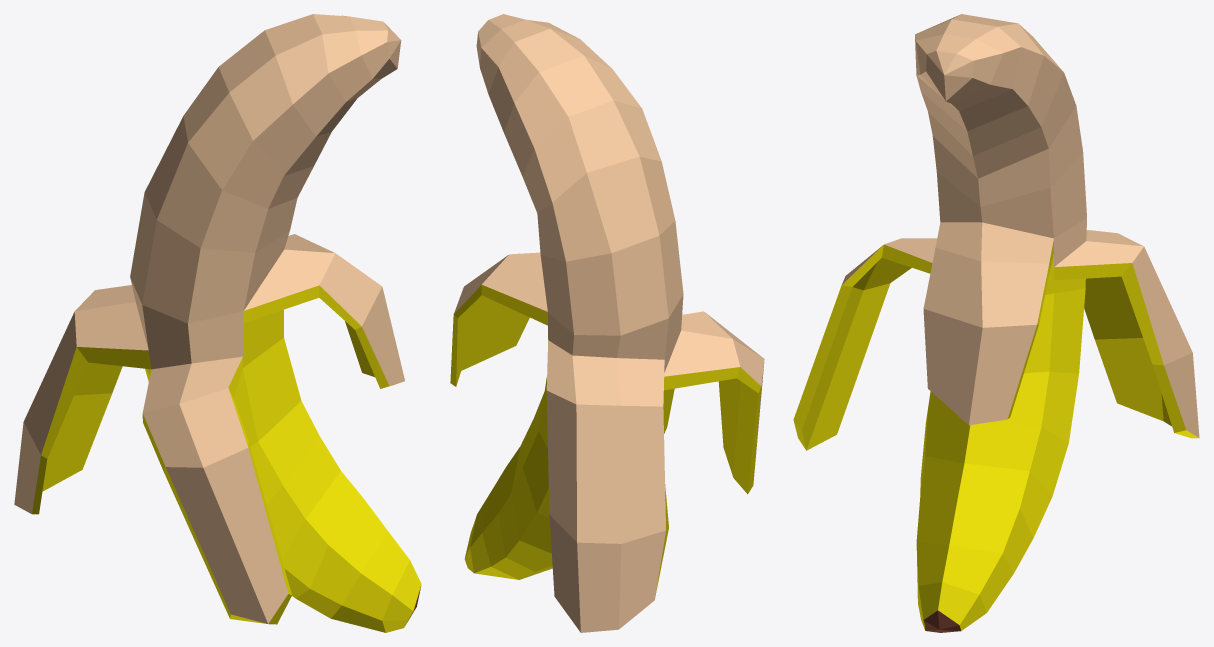
The model's file is banana-peal.fbx.
3 renders of one model, left to right at view 1: azimuth 30°, elevation 25°; view 2: azimuth 150°, elevation 25°; view 3: azimuth 270°, elevation 25°, orthographic. The views are drawn at different scales.
Visible parts, largest first — view 1: Cube.005; view 2: Cube.005; view 3: Cube.005.
Part boxes in pixels (x1,y1,x2,y2): Cube.005: (14, 14, 421, 632); Cube.005: (450, 14, 764, 632); Cube.005: (793, 14, 1199, 632).
Bounding box in the file's own units: 73.45 × 143 × 90.74.
